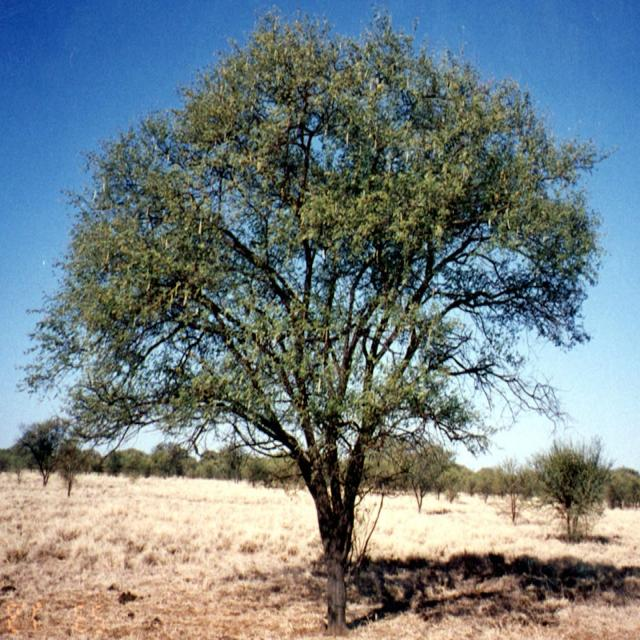Acacia: (31, 14, 618, 518)
